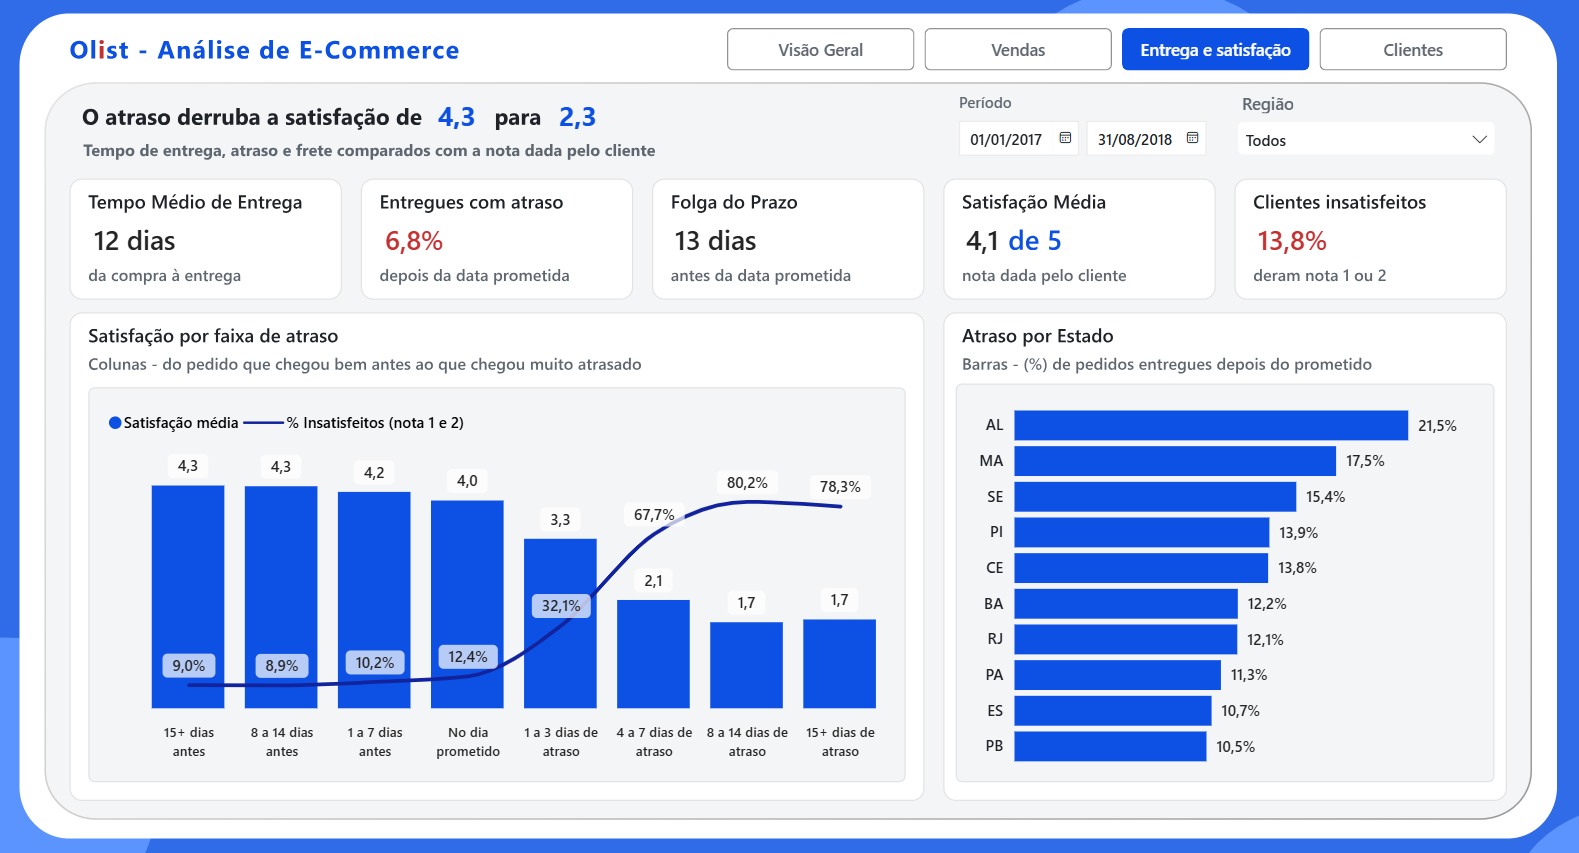

Layout of this report page (visuals, bound fields, positions):
{"tool":"powerbi","page":{"name":"Entrega e satisfação","canvas":[1280,720],"ordinal":2},"visuals":[{"type":"pageNavigator","box":[592,41.3,624.3,35],"z":0},{"type":"slicer","fields":{"Values":["dUF.regiao"]},"box":[996.3,92.7,215.3,60.1],"z":1000},{"type":"slicer","fields":{"Values":["dCalendario.Data"]},"box":[769.4,92.7,218,60.1],"z":2000},{"type":"lineClusteredColumnComboChart","fields":{"Category":["fPedidos.faixa_atraso"],"Y":["Medidas.Satisfação média"],"Y2":["Medidas.% Insatisfeitos (nota 1 e 2)"]},"box":[81,328.9,653.8,317],"z":3000},{"type":"barChart","fields":{"Category":["dUF.uf"],"Y":["Medidas.% Atraso (UF com 100+ entregas)"]},"box":[775.6,325.7,428.9,319],"z":4000},{"type":"cardVisual","fields":{"Data":["Medidas.Tempo médio de entrega (texto)"]},"box":[69.7,192,140.4,35.3],"z":5000},{"type":"cardVisual","fields":{"Data":["Medidas.% Entregues com atraso"]},"box":[302.5,192,140,35],"z":6000},{"type":"cardVisual","fields":{"Data":["Medidas.Folga do prazo (texto)"]},"box":[534.3,192,140,35],"z":7000},{"type":"cardVisual","fields":{"Data":["Medidas.Satisfação média"]},"box":[767,192,140,35],"z":8000},{"type":"cardVisual","fields":{"Data":["Medidas.% Insatisfeitos (nota 1 e 2)"]},"box":[1001.1,192,140.4,35.3],"z":9000},{"type":"cardVisual","fields":{"Data":["Medidas.Satisfação – no prazo"]},"box":[344.8,92.7,70.7,35.3],"z":10000},{"type":"cardVisual","fields":{"Data":["Medidas.Satisfação – com atraso"]},"box":[441.3,92.7,69.7,35.3],"z":11000}]}

Visuals, with their boxes on the page's 1280x720 design canvas (x1, y1, x2, y2). These are canvas units, not pixel positions in the 1579x853 screenshot, which may show the page scaled, cropped or inside an application window:
pageNavigator: l=592, t=41, r=1216, b=76
slicer - dUF.regiao: l=996, t=93, r=1212, b=153
slicer - dCalendario.Data: l=769, t=93, r=987, b=153
lineClusteredColumnComboChart - fPedidos.faixa_atraso x Medidas.Satisfação média: l=81, t=329, r=735, b=646
barChart - dUF.uf x Medidas.% Atraso (UF com 100+ entregas): l=776, t=326, r=1204, b=645
cardVisual - Medidas.Tempo médio de entrega (texto): l=70, t=192, r=210, b=227
cardVisual - Medidas.% Entregues com atraso: l=302, t=192, r=442, b=227
cardVisual - Medidas.Folga do prazo (texto): l=534, t=192, r=674, b=227
cardVisual - Medidas.Satisfação média: l=767, t=192, r=907, b=227
cardVisual - Medidas.% Insatisfeitos (nota 1 e 2): l=1001, t=192, r=1142, b=227
cardVisual - Medidas.Satisfação – no prazo: l=345, t=93, r=416, b=128
cardVisual - Medidas.Satisfação – com atraso: l=441, t=93, r=511, b=128
